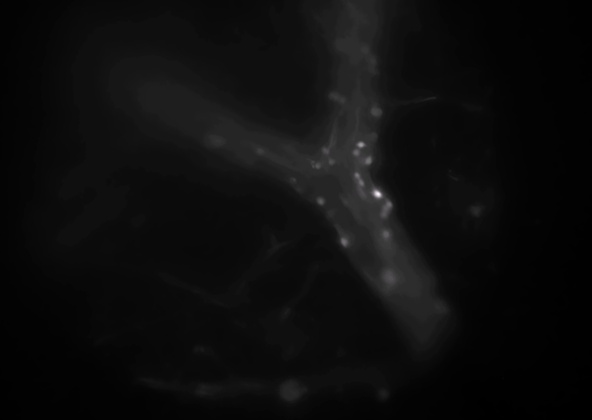cell: (370, 187, 384, 201), (354, 138, 368, 152), (370, 105, 384, 119), (349, 145, 363, 159), (362, 155, 376, 169), (317, 143, 331, 157), (311, 159, 325, 173), (324, 155, 338, 169), (327, 89, 341, 103), (350, 169, 364, 183), (333, 93, 347, 107), (353, 177, 367, 191), (337, 235, 351, 249), (382, 272, 396, 286), (382, 227, 396, 241), (381, 198, 395, 212), (377, 203, 391, 217), (379, 202, 393, 216), (314, 195, 328, 209), (287, 174, 301, 188), (254, 142, 268, 156), (207, 134, 221, 148), (358, 43, 372, 57), (366, 54, 380, 68), (333, 38, 347, 52), (366, 130, 380, 144)
